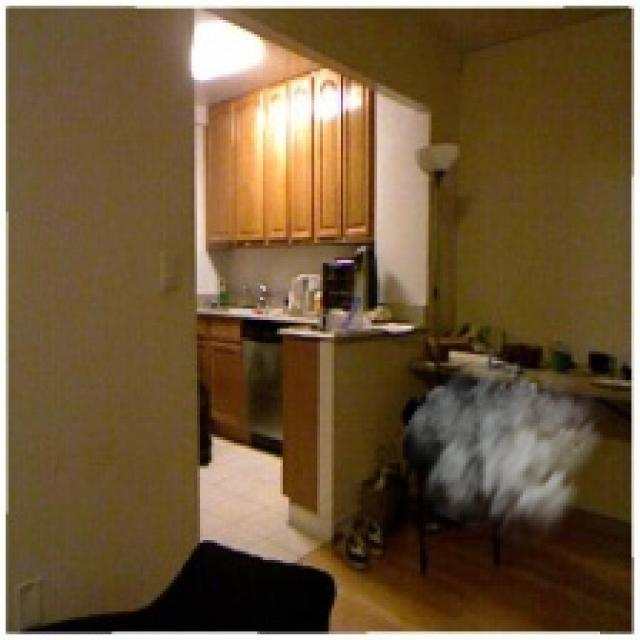smoke: (394, 346, 612, 563)
